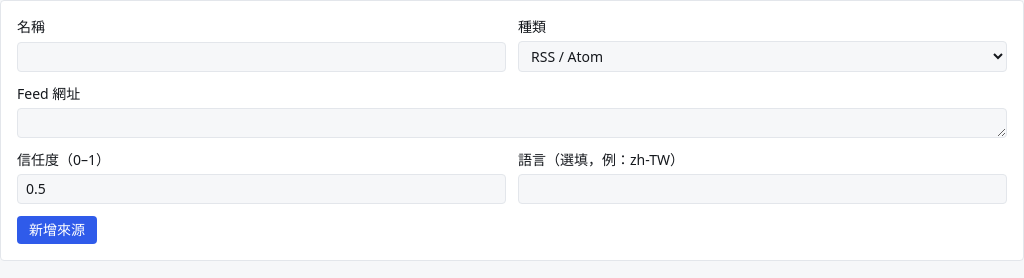
Test: sources › shows why a source was refused
Type "x" into the field labelled "名稱" at (262,57), box [17,42,506,72]
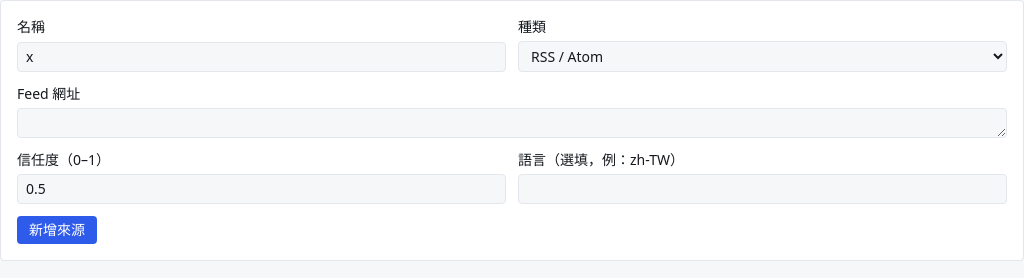
Type "not a url" into the text box labelled "Feed 網址" at (512,123), box [17,108,1007,138]
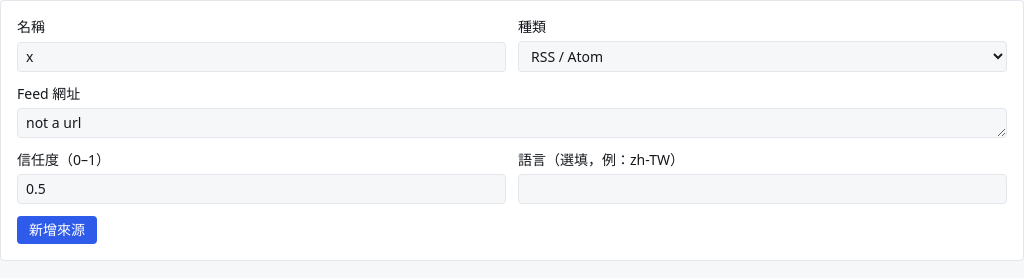
Submit the form "新增來源"
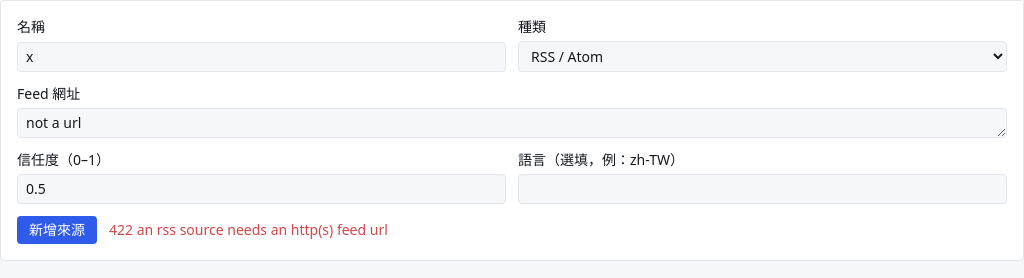
Check: the text "422 an rss source needs an http(s) feed url" is shown, box [109,220,388,240]
